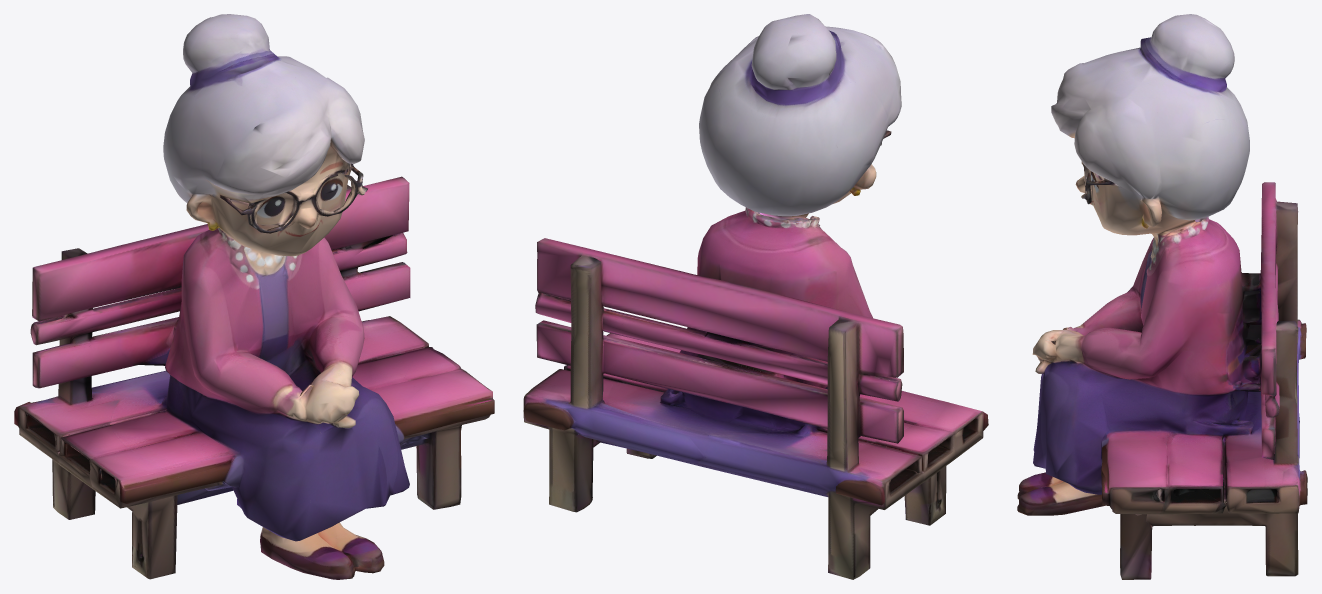
The model's file is Grandma.glb.
The picture shows the model from 3 angles, left to right: view 1: azimuth 30°, elevation 25°; view 2: azimuth 150°, elevation 25°; view 3: azimuth 270°, elevation 25°; orthographic projection. The views are drawn at different scales.
Size of the model in its own units: 1.54 by 2 by 1.12.
Materials: 1 (1 with a texture image).
